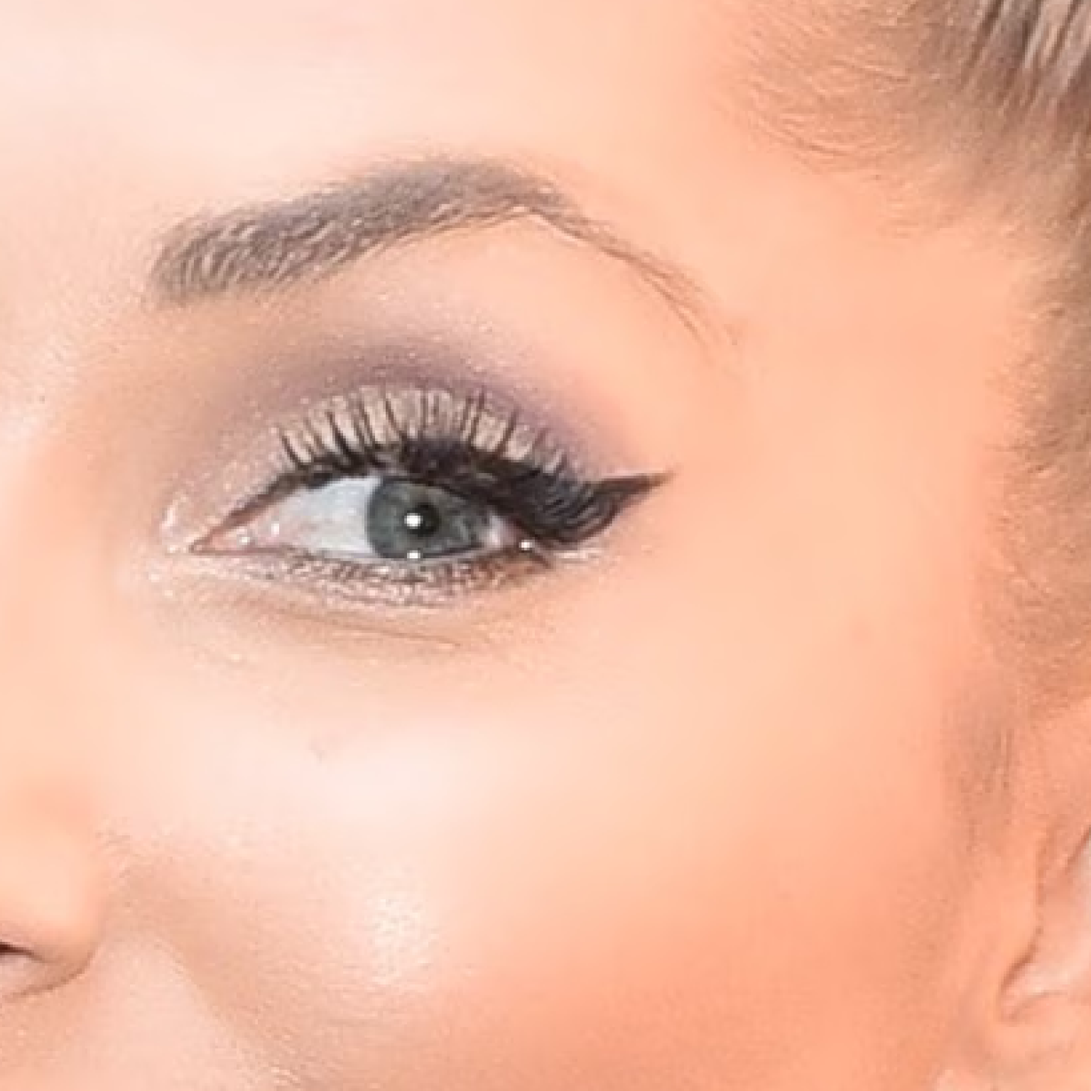iris: (370, 481, 487, 558)
pupil: (403, 503, 442, 536)
sclera: (227, 476, 382, 558), (483, 511, 528, 554)
